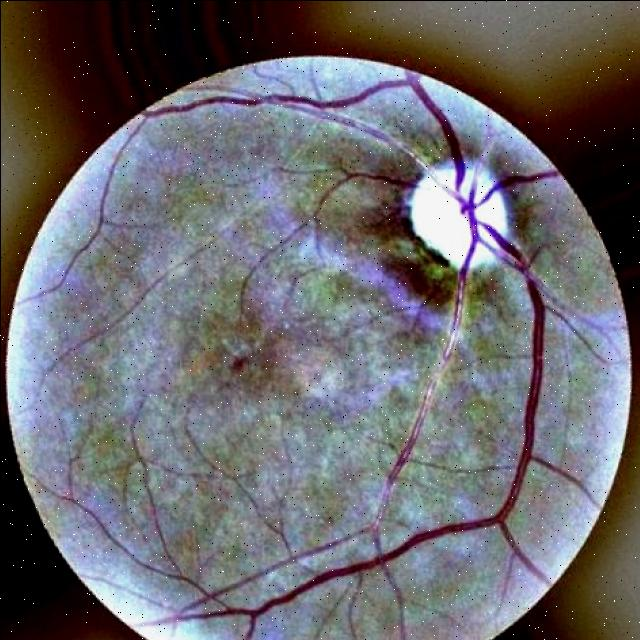Macula: (217, 334, 268, 391)
Nerves: (245, 210, 551, 616), (153, 75, 483, 228), (361, 217, 479, 524), (473, 166, 554, 199)
Optic Disk: (409, 154, 510, 266)
